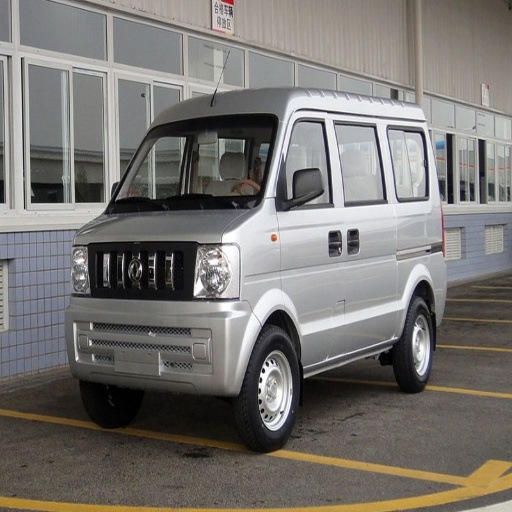back_glass: (131, 132, 182, 192)
front_bumper: (72, 242, 260, 389)
front_glass: (144, 118, 275, 208)
front_left_door: (273, 113, 360, 363)
trunk: (388, 211, 450, 325)
